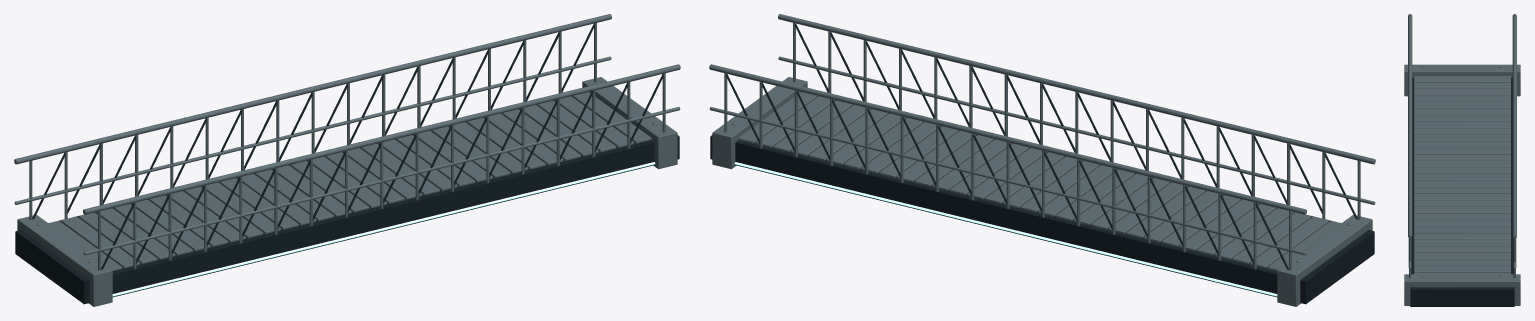
Rendered from pedestrian_bridge.glb.
3 views of the same model, side by side, from view 1: azimuth 30°, elevation 25°; view 2: azimuth 150°, elevation 25°; view 3: azimuth 270°, elevation 25° (orthographic). The views are drawn at different scales.
Parts seen in each view (by area): view 1: Detail.pedestrian_bridge.Metal, Detail.pedestrian_bridge.Dark, Detail.pedestrian_bridge.Cyan; view 2: Detail.pedestrian_bridge.Metal, Detail.pedestrian_bridge.Dark, Detail.pedestrian_bridge.Cyan; view 3: Detail.pedestrian_bridge.Metal, Detail.pedestrian_bridge.Dark.
Part boxes in pixels (x1,y1,x2,y2): Detail.pedestrian_bridge.Metal: (14, 14, 680, 306); Detail.pedestrian_bridge.Dark: (15, 23, 679, 304); Detail.pedestrian_bridge.Cyan: (112, 162, 655, 296); Detail.pedestrian_bridge.Metal: (709, 14, 1375, 306); Detail.pedestrian_bridge.Dark: (710, 23, 1374, 304); Detail.pedestrian_bridge.Cyan: (734, 162, 1277, 296); Detail.pedestrian_bridge.Metal: (1404, 14, 1520, 305); Detail.pedestrian_bridge.Dark: (1410, 77, 1514, 306).
Size of the model in its own units: 13.5 by 2.09 by 3.
